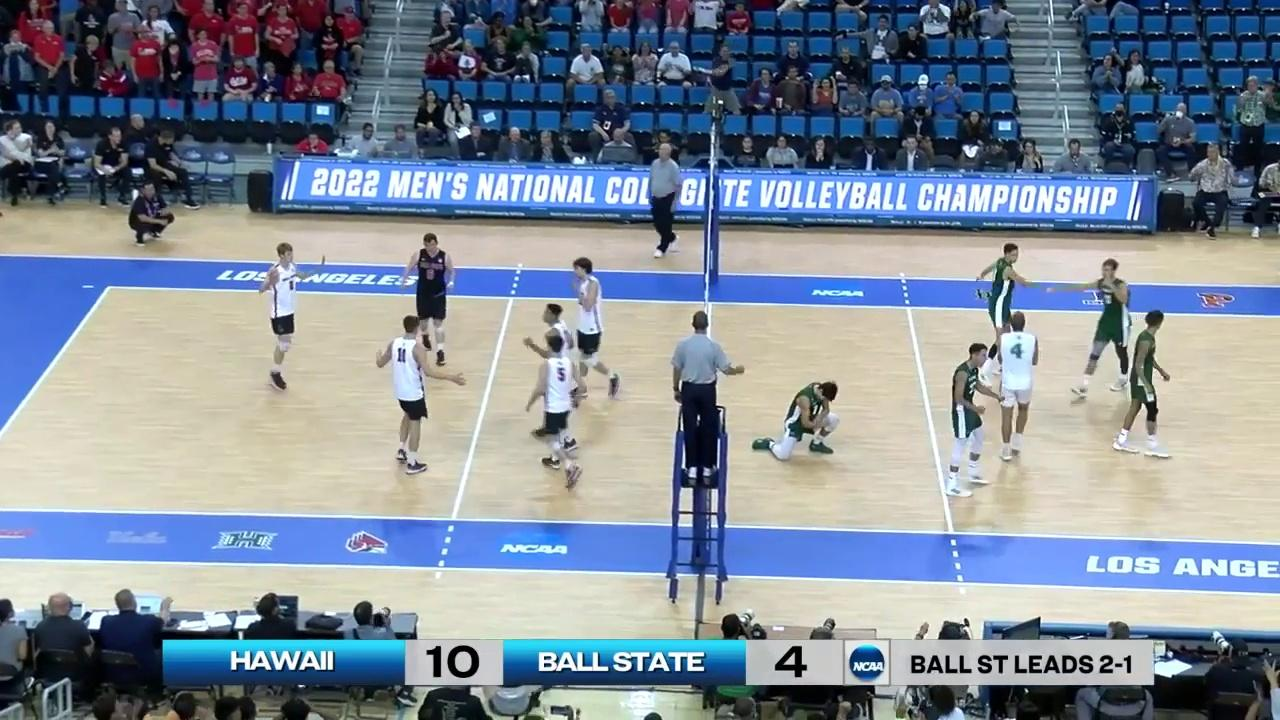player: (374, 316, 463, 476), (938, 343, 1001, 502), (559, 256, 620, 406), (1115, 314, 1176, 460), (1069, 258, 1130, 400), (971, 242, 1034, 376), (525, 305, 578, 450), (535, 336, 585, 489), (988, 313, 1038, 461), (758, 381, 839, 464), (405, 236, 455, 368), (262, 244, 304, 393)
refree: (669, 312, 741, 487), (644, 139, 683, 260)
